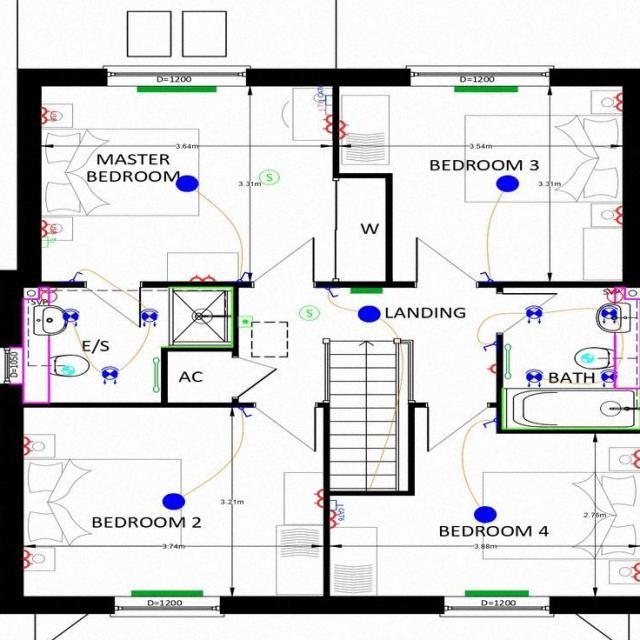Cat 6 Data Socket: (328, 499, 344, 520), (316, 84, 332, 105)
Ceiling Mounted Continuous Extract FanWith Boost Mode Activated By Light Switch: (580, 352, 593, 363), (62, 365, 74, 375)
Co-Ax TV Socket: (318, 101, 332, 115)
Double Socket: (189, 273, 214, 281), (611, 205, 622, 223), (611, 92, 622, 110), (338, 119, 348, 138), (22, 436, 32, 454), (313, 489, 323, 507), (23, 549, 32, 568), (329, 509, 338, 528), (630, 562, 639, 581), (630, 449, 639, 468), (322, 114, 331, 132)
Full Height Tiling: (501, 388, 640, 428), (159, 286, 232, 347)
Light Switch: (238, 406, 252, 417), (482, 417, 496, 428), (324, 287, 338, 297), (482, 340, 496, 350), (70, 270, 82, 281), (479, 270, 492, 280), (236, 271, 248, 280)
Low Energy Downlighter: (524, 368, 543, 387), (524, 304, 542, 323), (100, 365, 118, 384), (600, 304, 617, 323), (61, 308, 78, 326), (140, 308, 157, 326), (600, 369, 617, 386)
Low Energy Pendant Light: (357, 304, 380, 322), (473, 505, 496, 523), (162, 492, 184, 510), (175, 174, 197, 191), (496, 175, 518, 191)
Mains Wired Smoke Detector: (298, 304, 319, 320), (258, 168, 279, 184)
Programmable Room Thermostat: (238, 315, 252, 326)
Radiator: (137, 85, 216, 92), (130, 590, 202, 596), (464, 590, 529, 596), (454, 86, 517, 91), (349, 287, 382, 293)
Shaver Socket: (39, 286, 57, 304), (605, 286, 622, 304)
Single Socket: (486, 364, 496, 372)
Telephone Socket: (41, 236, 55, 247)
USB Double Socket: (40, 219, 56, 237), (41, 105, 56, 124)
